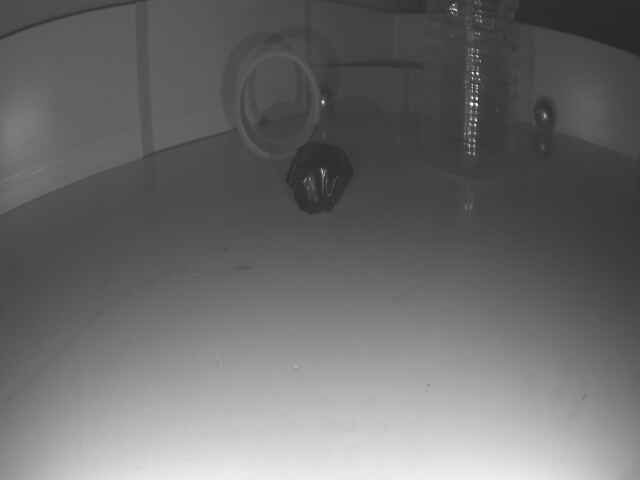Dead: (284, 142, 353, 214)
Live: (533, 97, 558, 133), (313, 85, 336, 115)
Point: (314, 61, 431, 115)
